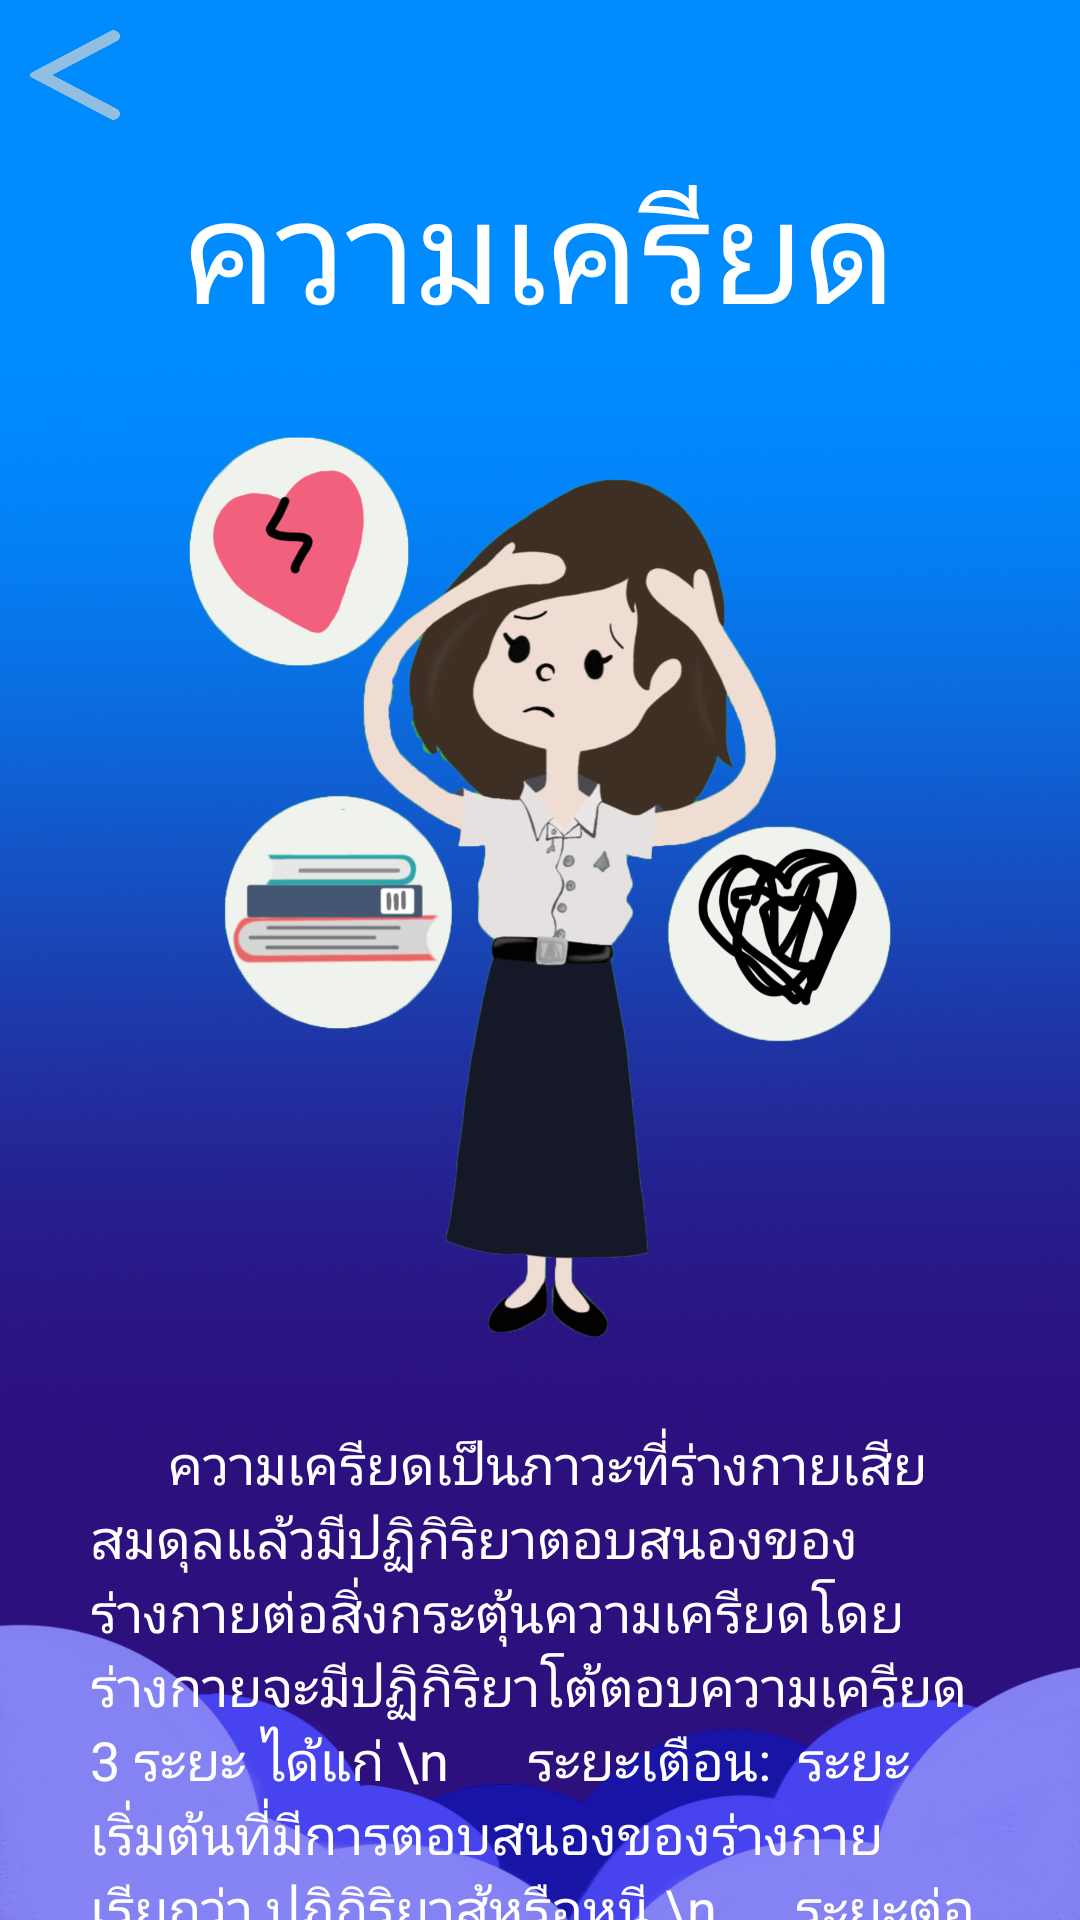

Icon bounding boxes for this 1080*1920 phone screenshot, format bbox=(x1, y1, x2, y2):
backbut: bbox=(30, 30, 120, 120)
